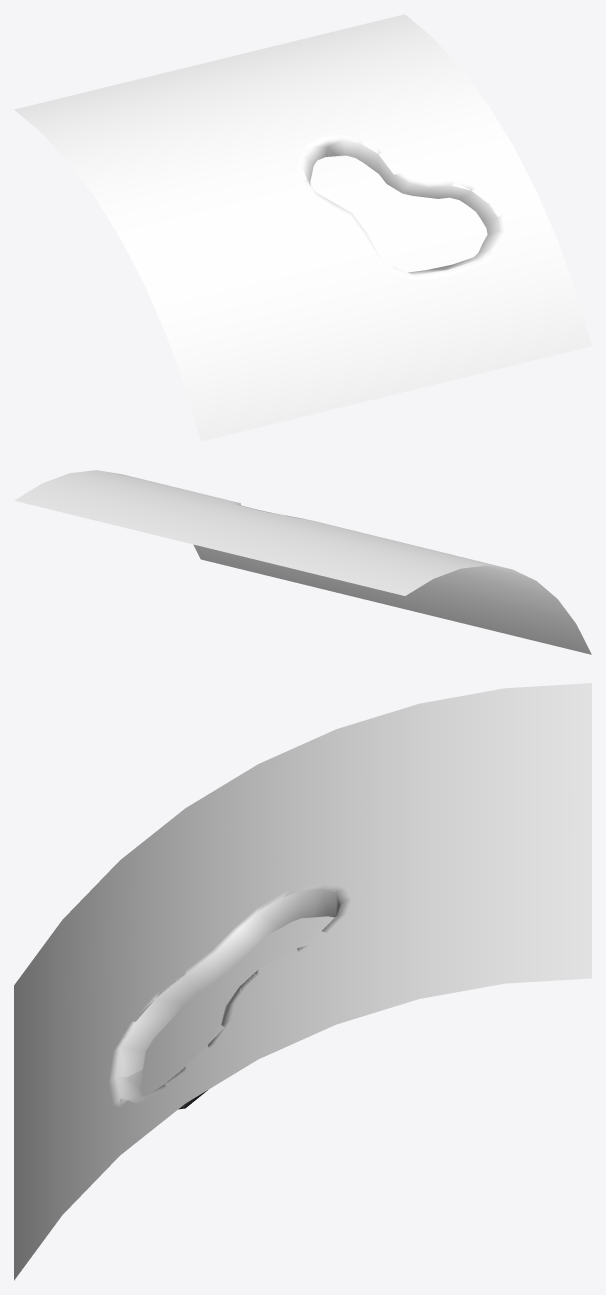
File: grd_F_R_2.dae
3 renders of one model, top to bottom at view 1: azimuth 30°, elevation 25°; view 2: azimuth 150°, elevation 25°; view 3: azimuth 270°, elevation 25°, orthographic. The views are drawn at different scales.
Parts seen in each view (by area): view 1: grd_F_R_2; view 2: grd_F_R_2; view 3: grd_F_R_2.
Part boxes in pixels (bbox=[...]): grd_F_R_2: bbox=[14, 14, 591, 441]; grd_F_R_2: bbox=[14, 470, 591, 654]; grd_F_R_2: bbox=[14, 683, 591, 1280].
Bounding box in the file's own units: 512 × 244 × 423.
Materials: 5 (1 with a texture image).
